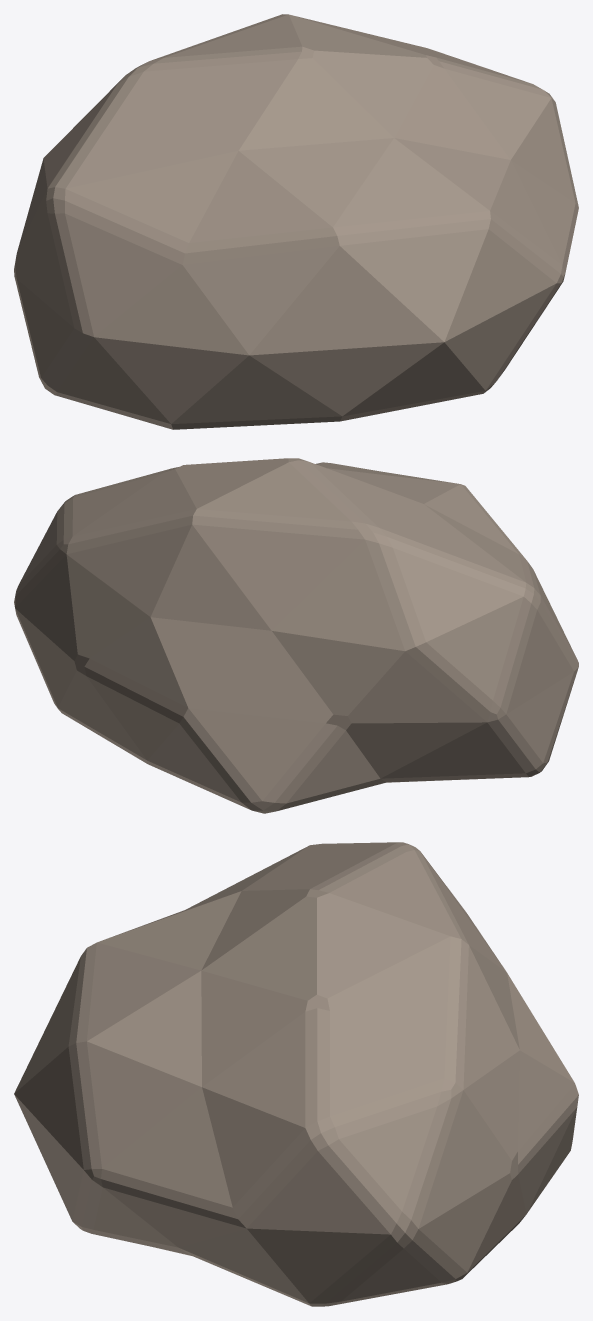
File: rock_angular.glb
The picture shows the model from 3 angles, top to bottom: view 1: azimuth 30°, elevation 25°; view 2: azimuth 150°, elevation 25°; view 3: azimuth 270°, elevation 25°; orthographic projection. The views are drawn at different scales.
Visible parts, largest first — view 1: ROCK_ANGULAR; view 2: ROCK_ANGULAR; view 3: ROCK_ANGULAR.
Boxes of the visible parts, x1,y1,x2,y2 form: ROCK_ANGULAR: (14,14,578,429); ROCK_ANGULAR: (14,458,578,813); ROCK_ANGULAR: (14,842,578,1306).
Size of the model in its own units: 2.25 by 1.14 by 1.92.
